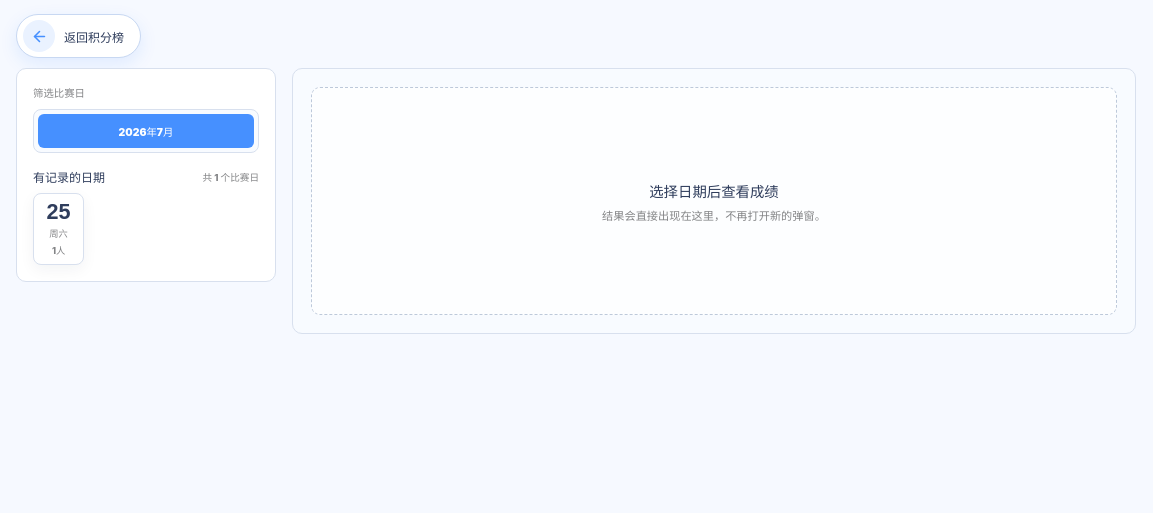
Test case: counts only members with a positive daily score as participants
Click the button with aria-label "查看 2026年7月25日积分" at (59, 229), box [33,193,84,265]
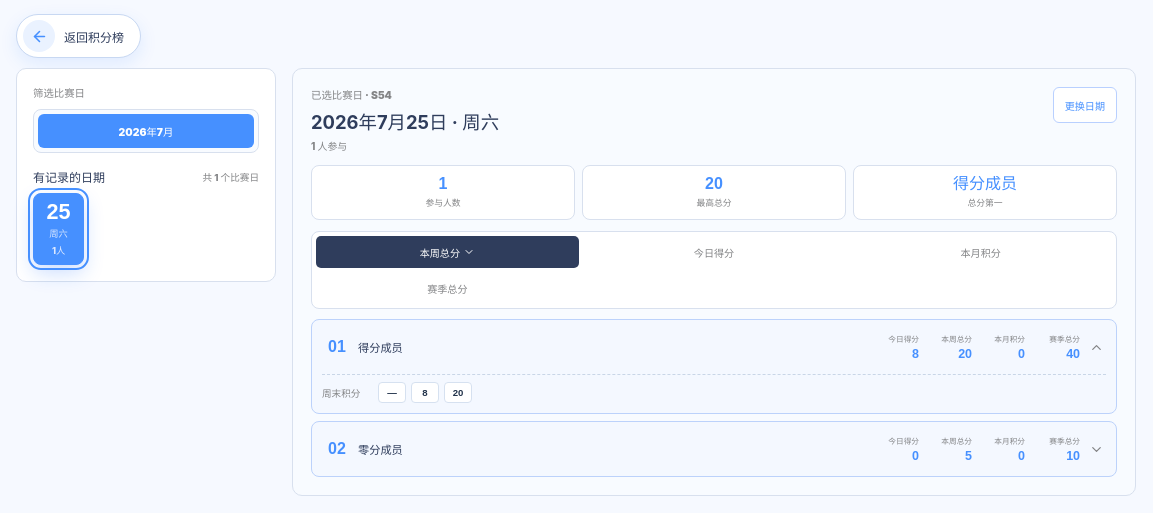
Now the element named "日期积分结果" shows "1 人参与", box [311,140,347,152]
Now the element named "日期积分结果" shows "参与人数", box [425,197,461,208]
Now the number of elements with test id "score-query-row" is 2, box [311,319,1117,414]; [311,421,1117,477]
